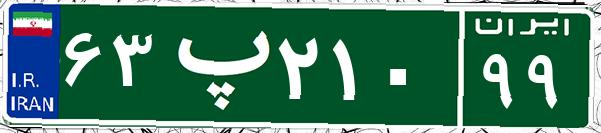0: (385, 28, 445, 110)
1: (330, 28, 385, 110)
2: (273, 28, 330, 110)
3: (110, 28, 158, 105)
6: (57, 26, 110, 107)
9: (475, 38, 525, 113), (525, 38, 570, 115)
پ: (158, 15, 273, 115)
